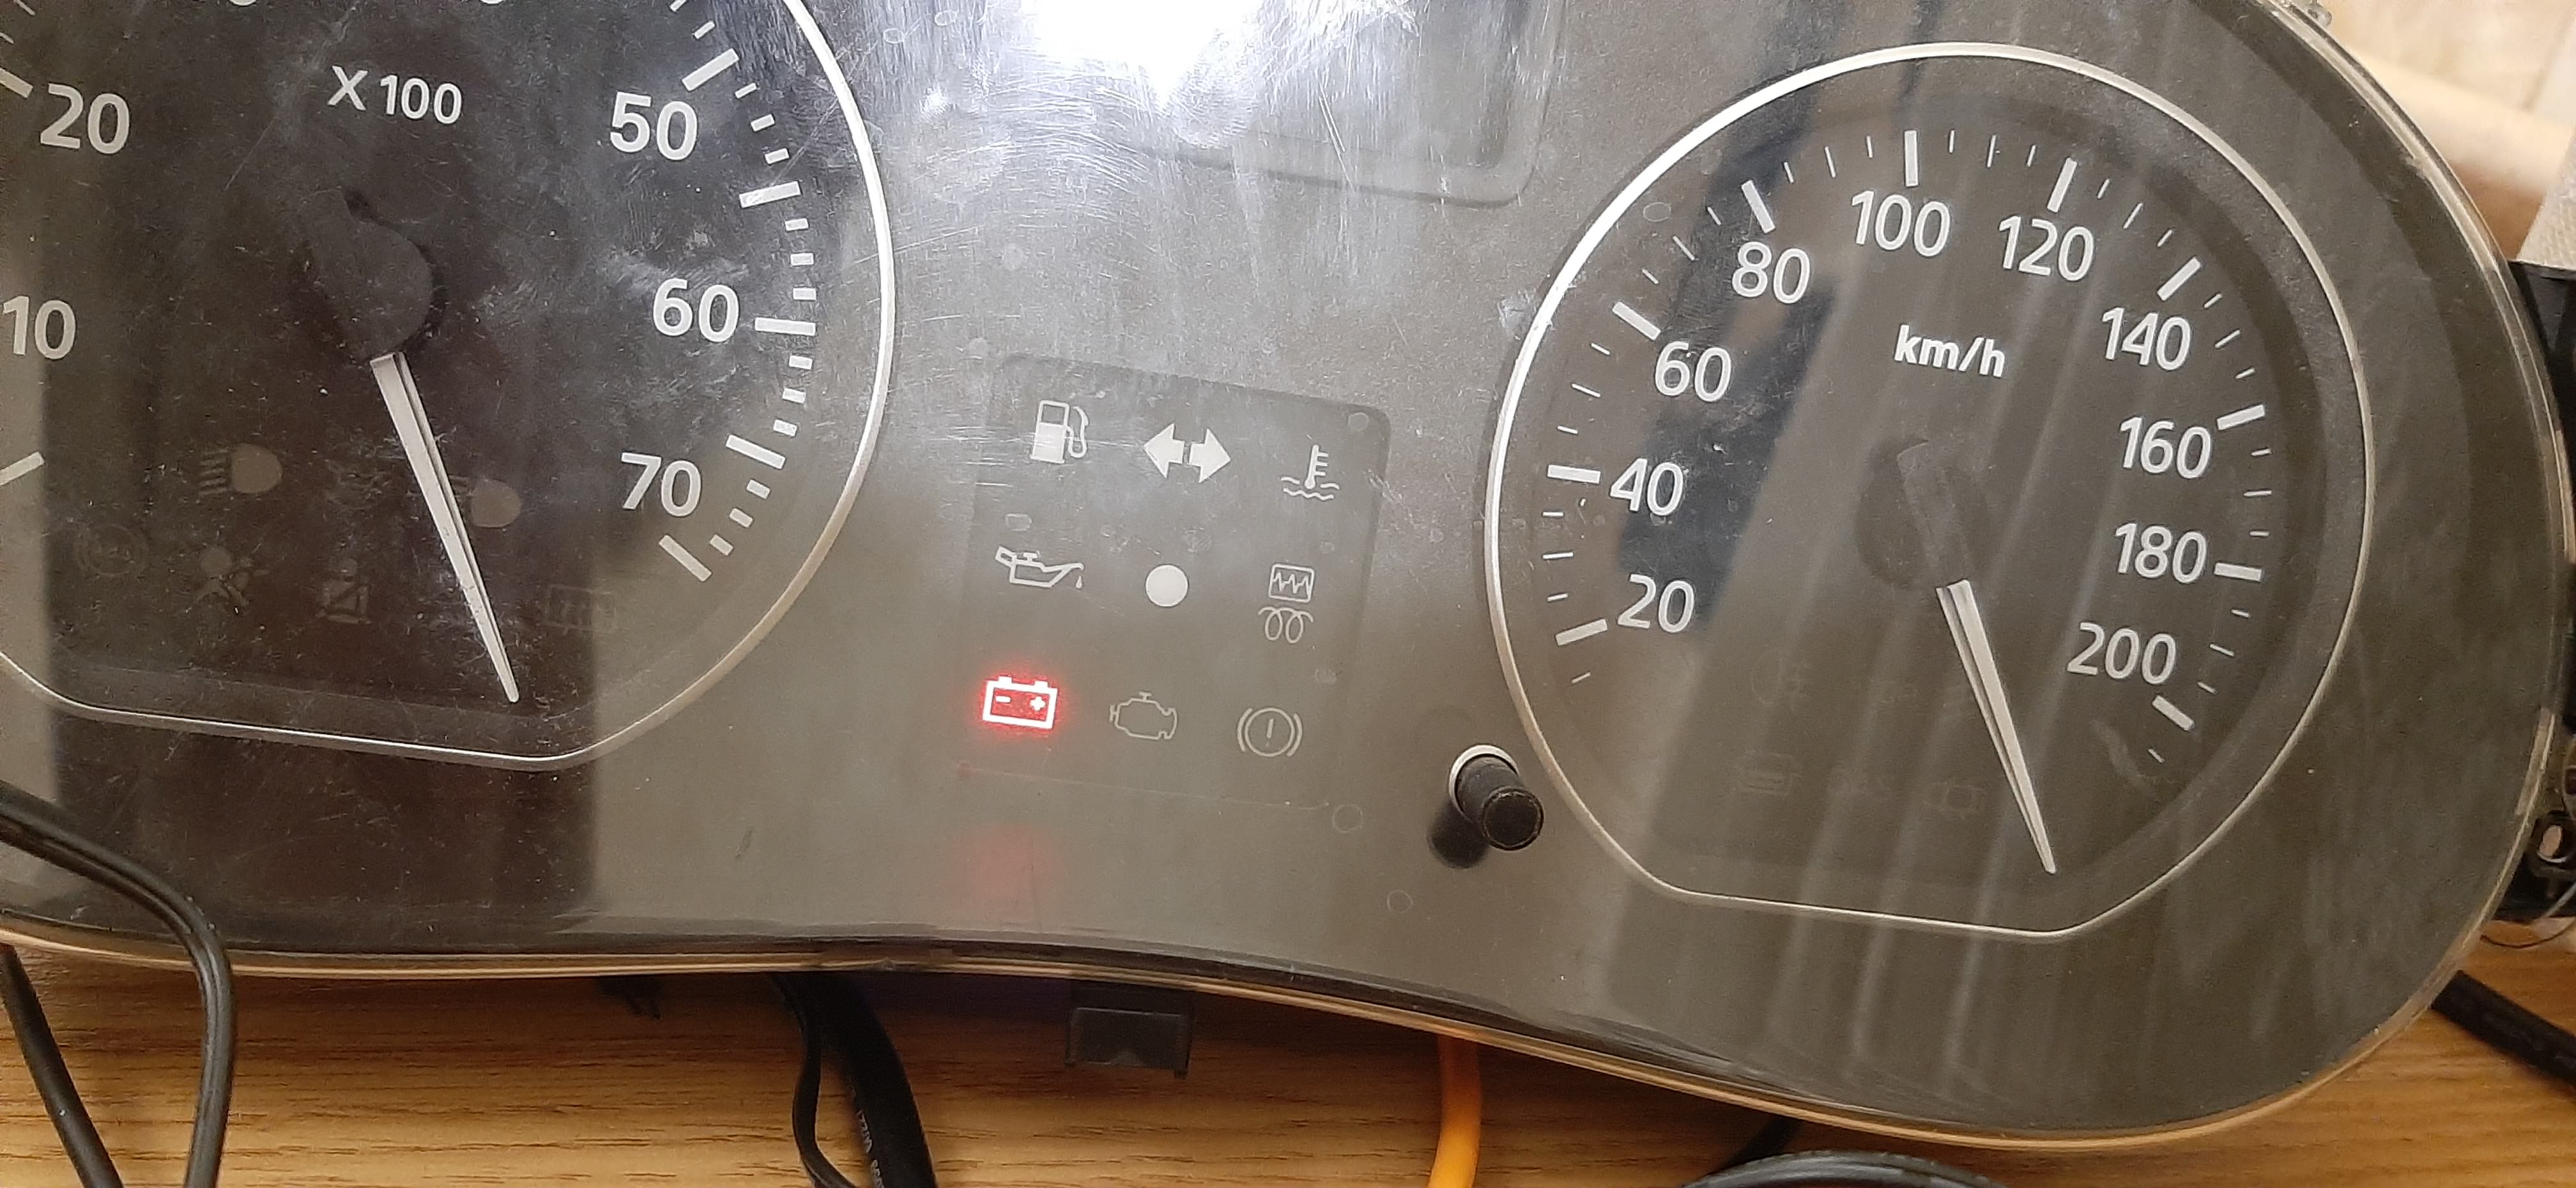accomulator15: (969, 670, 1071, 739)
